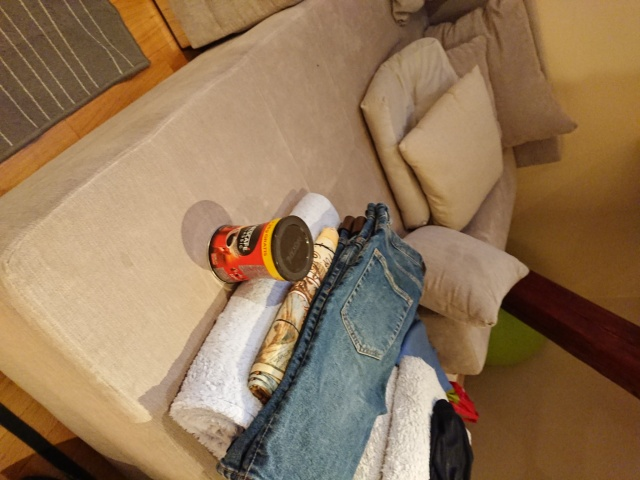Nescafe Classic 225g: (205, 213, 317, 286)
